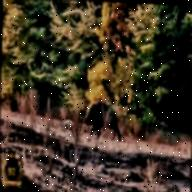boar: (80, 92, 124, 154)
